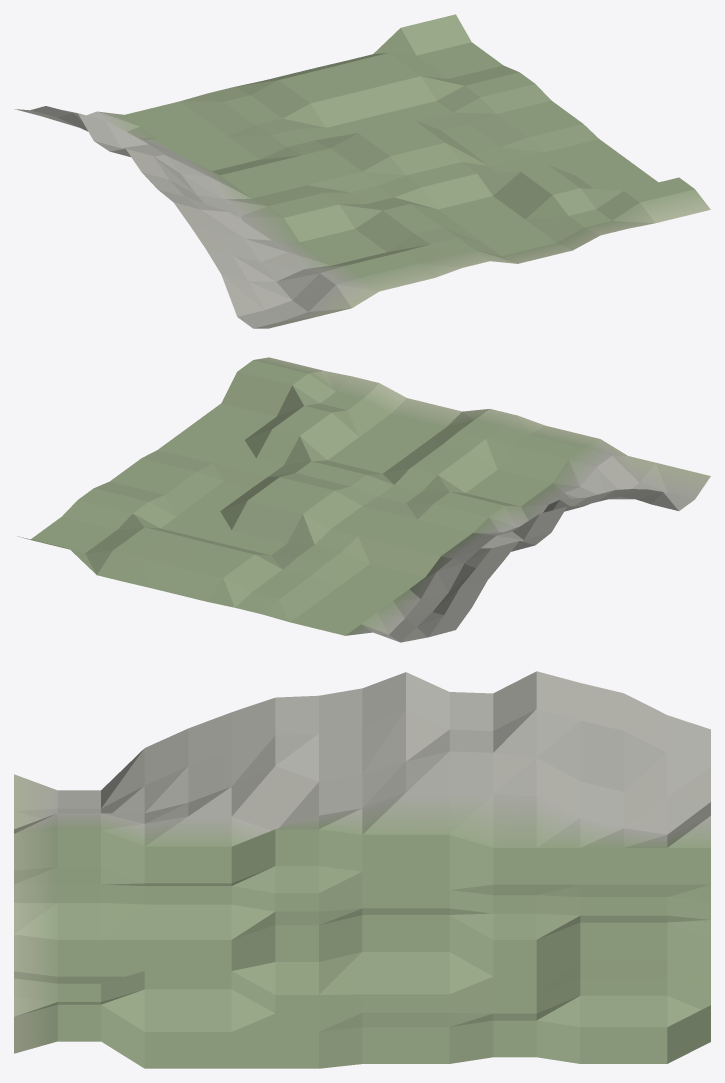
3 renders of one model, top to bottom at view 1: azimuth 30°, elevation 25°; view 2: azimuth 150°, elevation 25°; view 3: azimuth 270°, elevation 25°, orthographic. The views are drawn at different scales.
Bounding box in the file's own units: 32 × 6.03 × 32.
